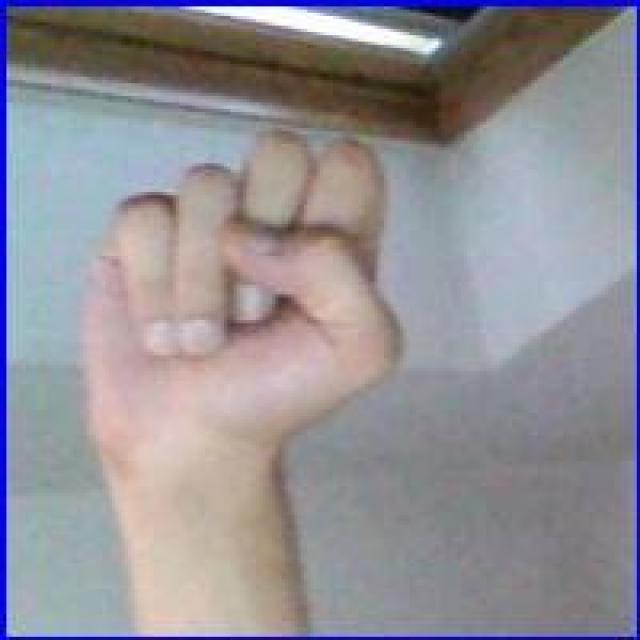S: (80, 121, 413, 442)
